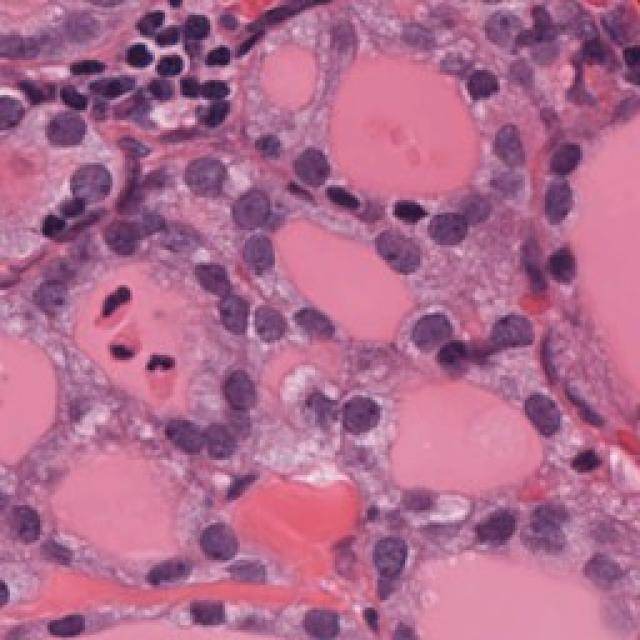normal: (426, 35, 520, 134), (400, 195, 488, 283), (186, 356, 290, 429), (180, 481, 257, 578), (170, 112, 237, 216), (218, 150, 287, 246), (329, 381, 403, 451), (512, 385, 578, 456), (483, 293, 553, 359), (517, 141, 599, 197), (290, 281, 345, 355), (18, 261, 76, 324), (526, 178, 580, 241), (533, 239, 592, 295), (197, 236, 248, 300), (106, 212, 151, 277)
